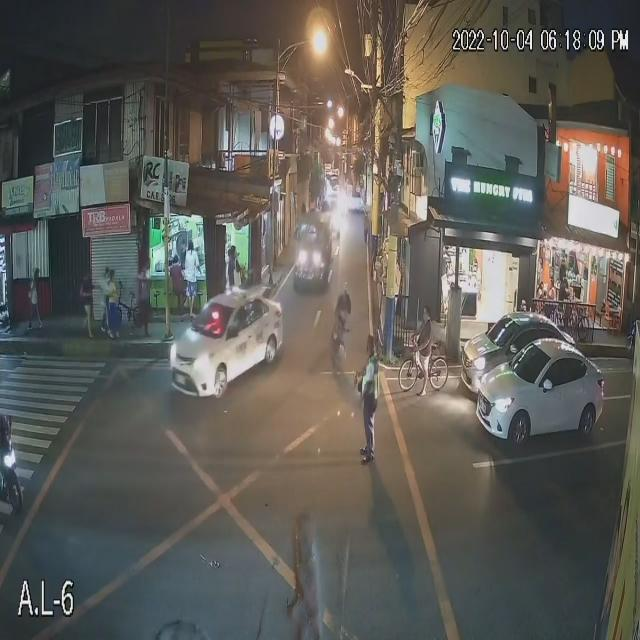motorcycle: (0, 413, 39, 522)
